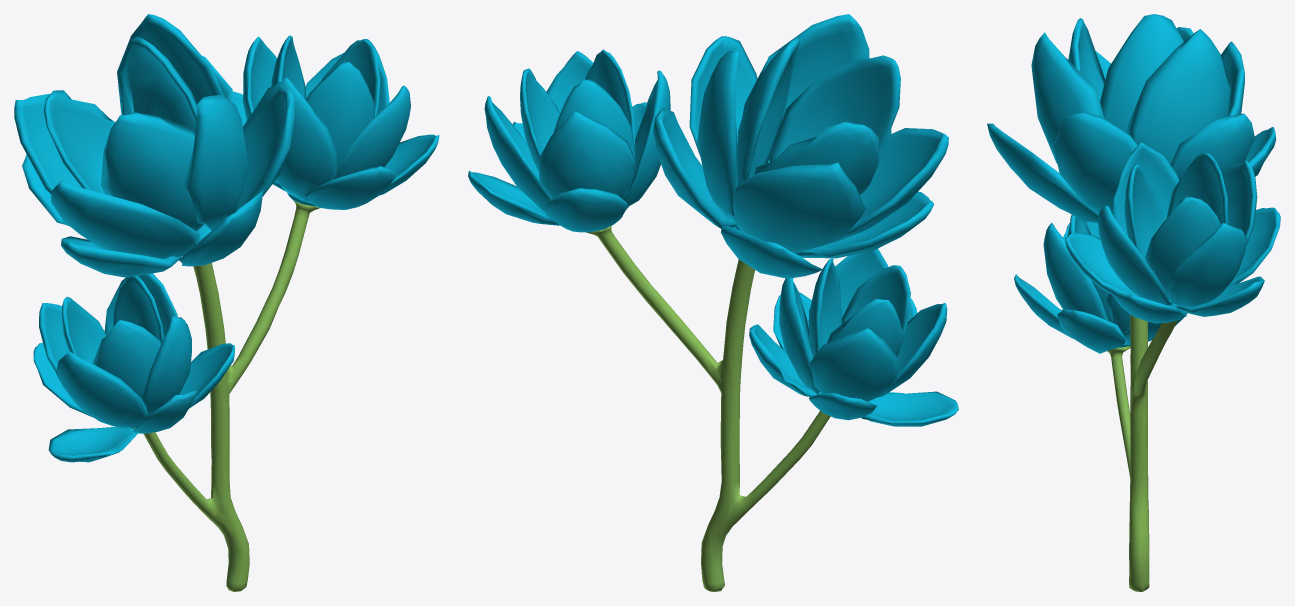
The model's file is Flower.fbx.
The picture shows the model from 3 angles, left to right: view 1: azimuth 30°, elevation 25°; view 2: azimuth 150°, elevation 25°; view 3: azimuth 270°, elevation 25°; orthographic projection. The views are drawn at different scales.
Visible parts, largest first — view 1: Flower; view 2: Flower; view 3: Flower.
Part boxes in pixels (<box>): Flower: <box>14,14,439,591</box>; Flower: <box>468,14,958,591</box>; Flower: <box>987,14,1280,591</box>.
Bounding box in the file's own units: 21.09 × 27.7 × 13.77.
